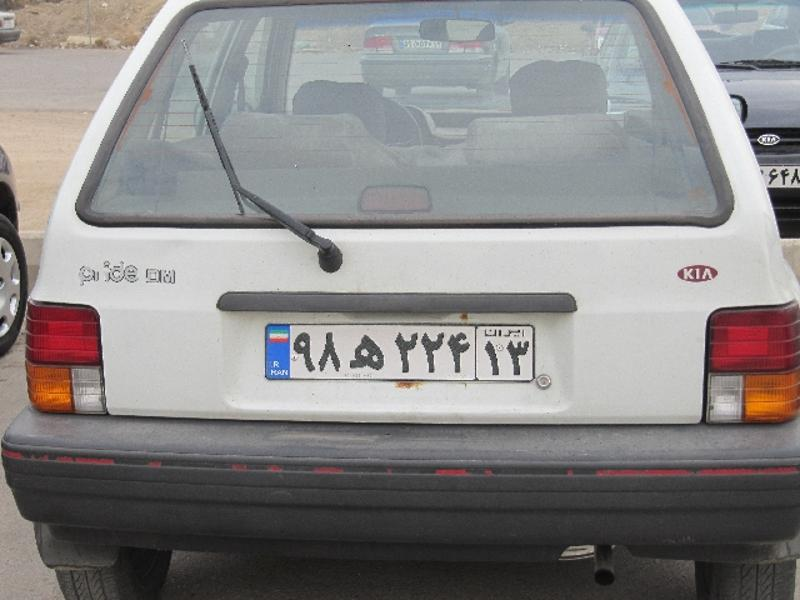Plate: (259, 320, 549, 393)
